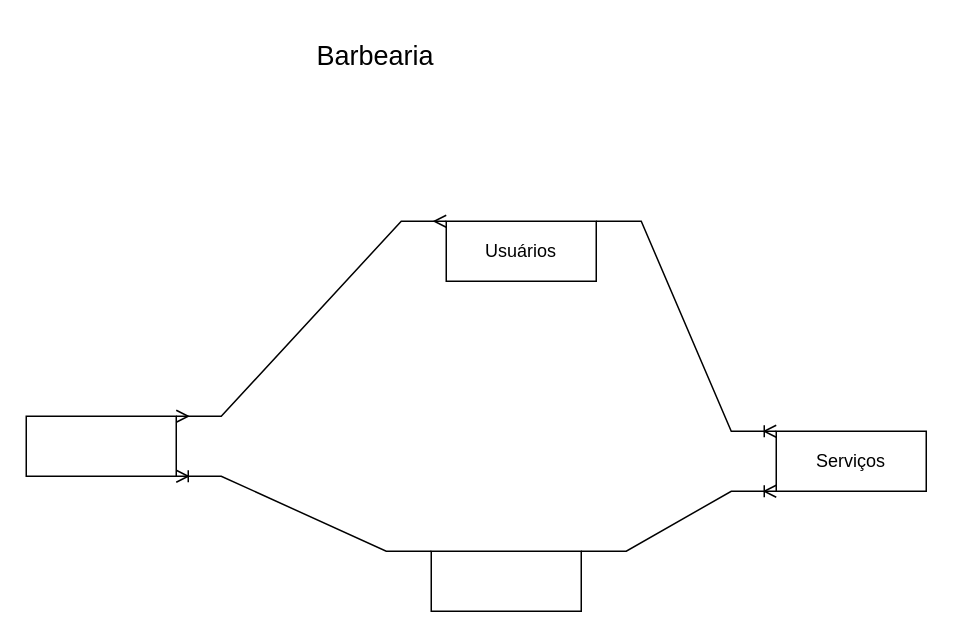
Some shapes in this 953 by 638 pixel diagram are drawn without their labels. Each missing label, with the box of its shape:
Pagamentos: (430, 550, 581, 611)
Produtos: (25, 415, 176, 476)
